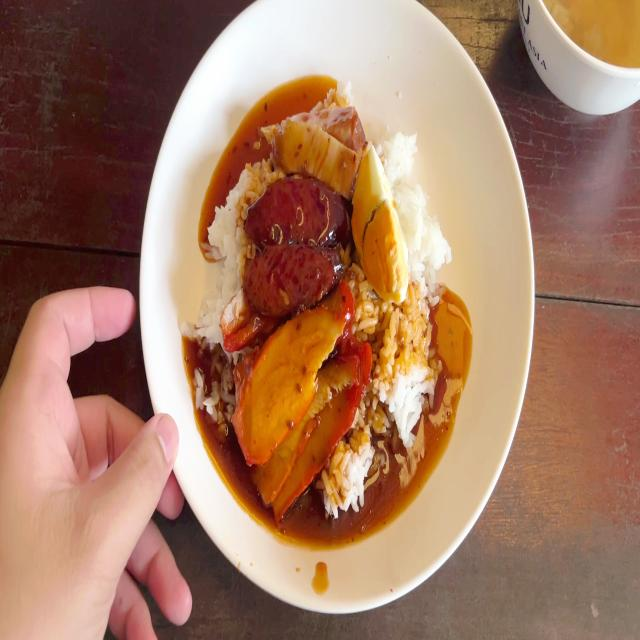boiled_egg: (348, 152, 408, 307)
chainese_sausage: (240, 180, 342, 310), (241, 180, 343, 238), (235, 247, 347, 296)
crispy_pork: (260, 100, 366, 190)
red_pork: (242, 292, 372, 501), (263, 336, 372, 501), (233, 285, 345, 441), (217, 293, 258, 350)
red_pork_and_crispy_pork: (180, 79, 453, 501)
rice: (198, 150, 252, 323), (376, 306, 432, 444), (336, 416, 389, 522), (406, 186, 451, 301), (380, 120, 420, 183)
